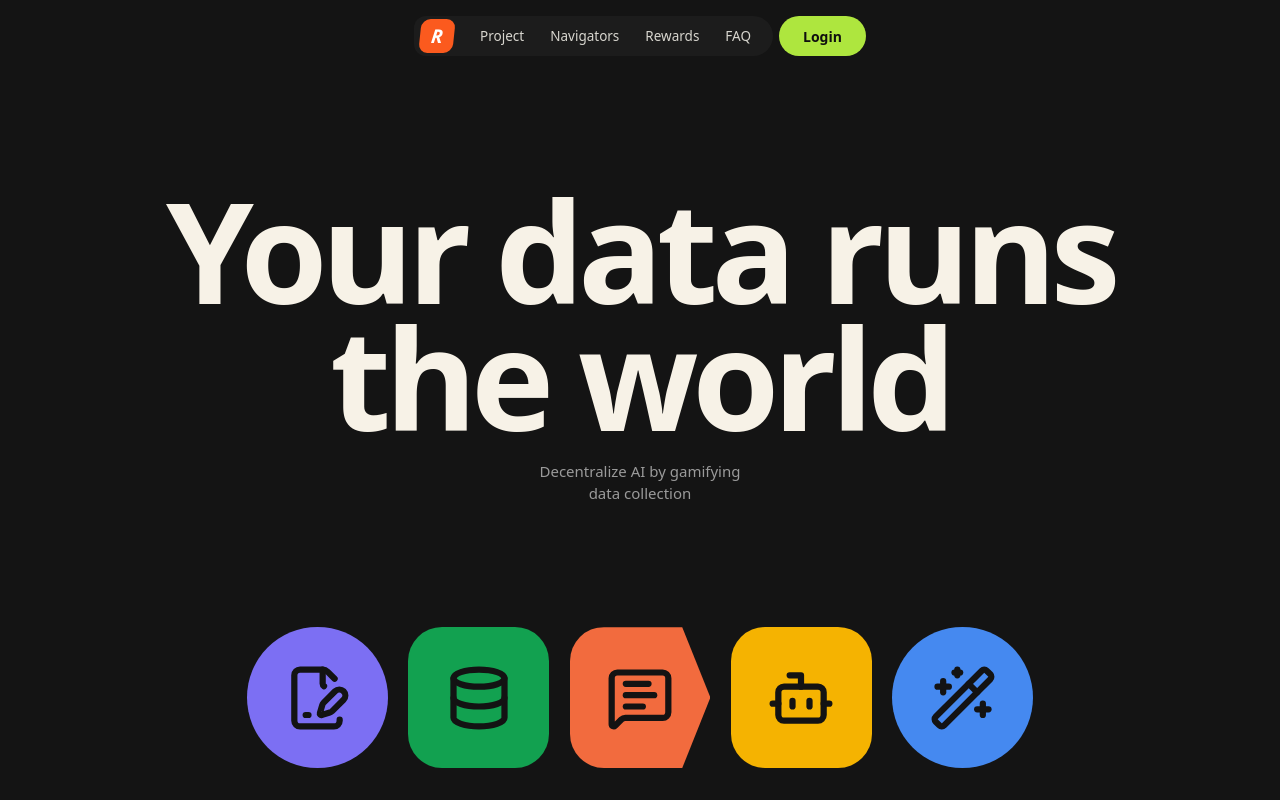
Test: LoginPage › Login 버튼을 누르면 아이디/비밀번호 입력 폼이 나타난다
This screenshot has width=1280, height=800.
Click the button "Login" at (822, 36), box [779,16,866,56]
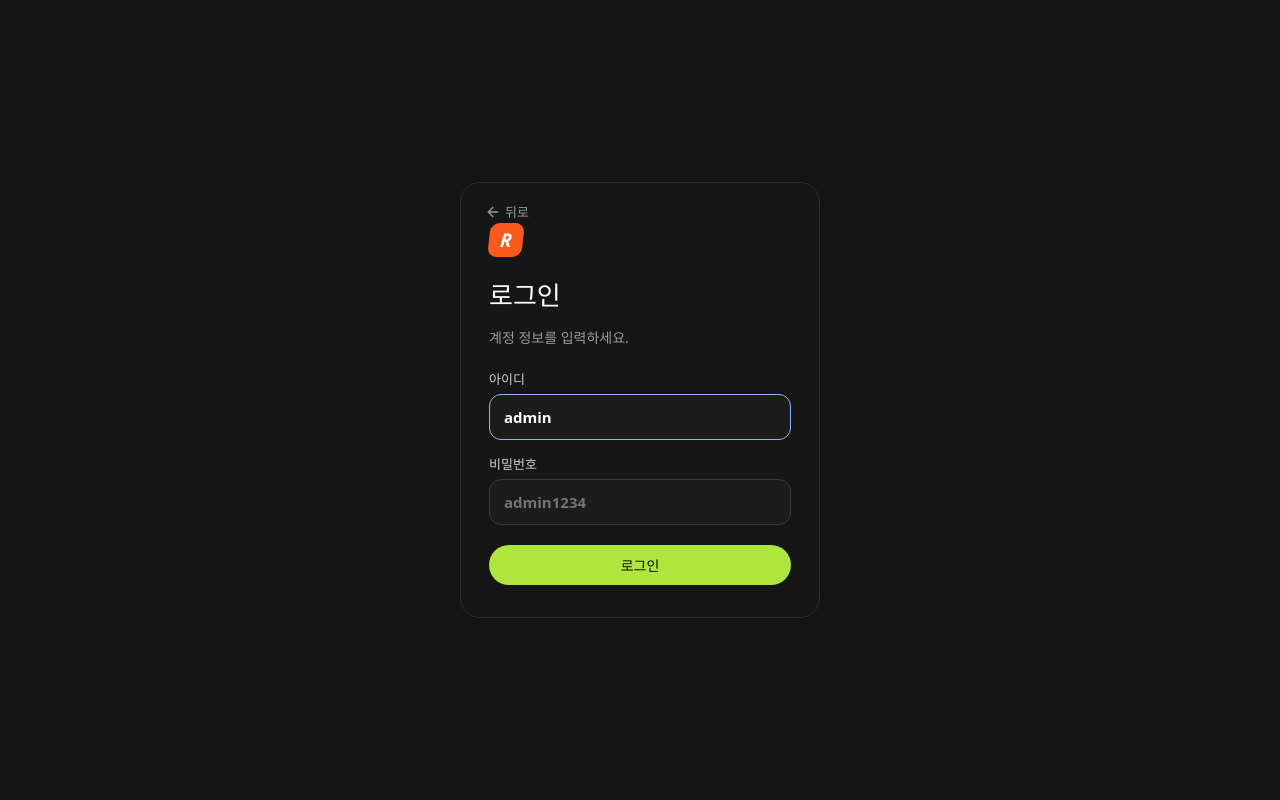
Result: the field labelled "아이디" is shown at [489,394,791,440]
Result: the password field labelled "비밀번호" is shown at [489,479,791,525]
